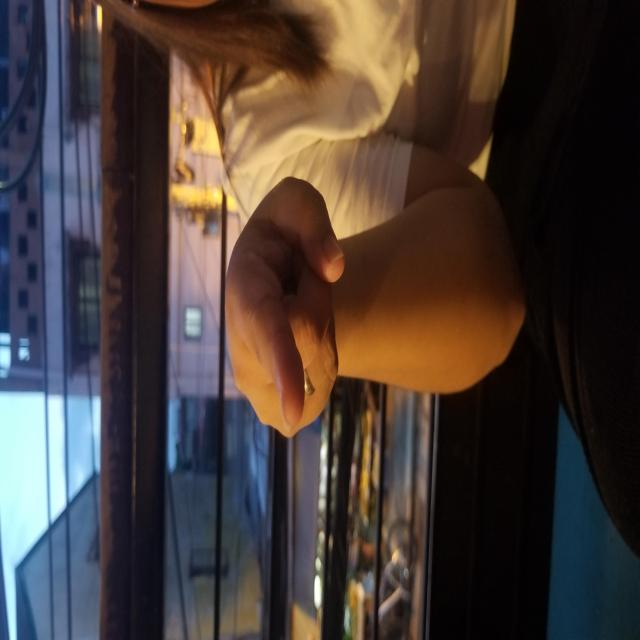Z: (199, 161, 375, 500)
